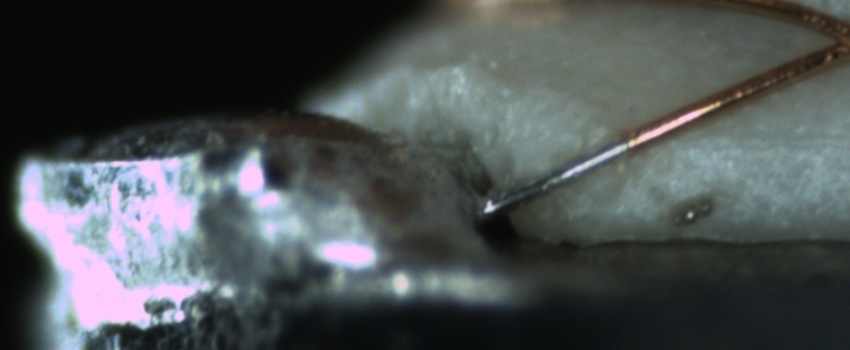CL: (805, 6, 850, 68)
DL: (679, 109, 849, 173)
TS: (483, 136, 632, 218)
